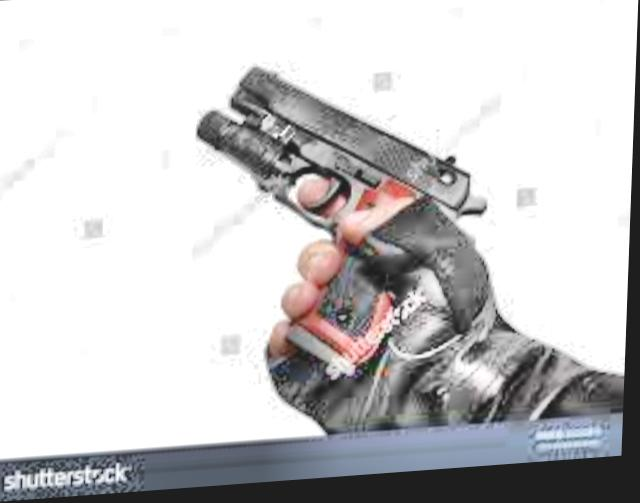pistol: (184, 58, 486, 391)
